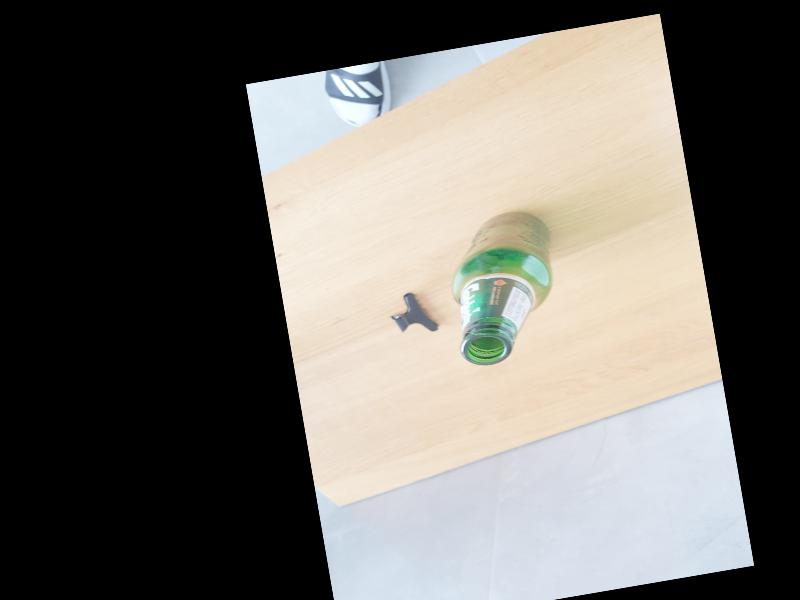Beer: (438, 204, 570, 369)
